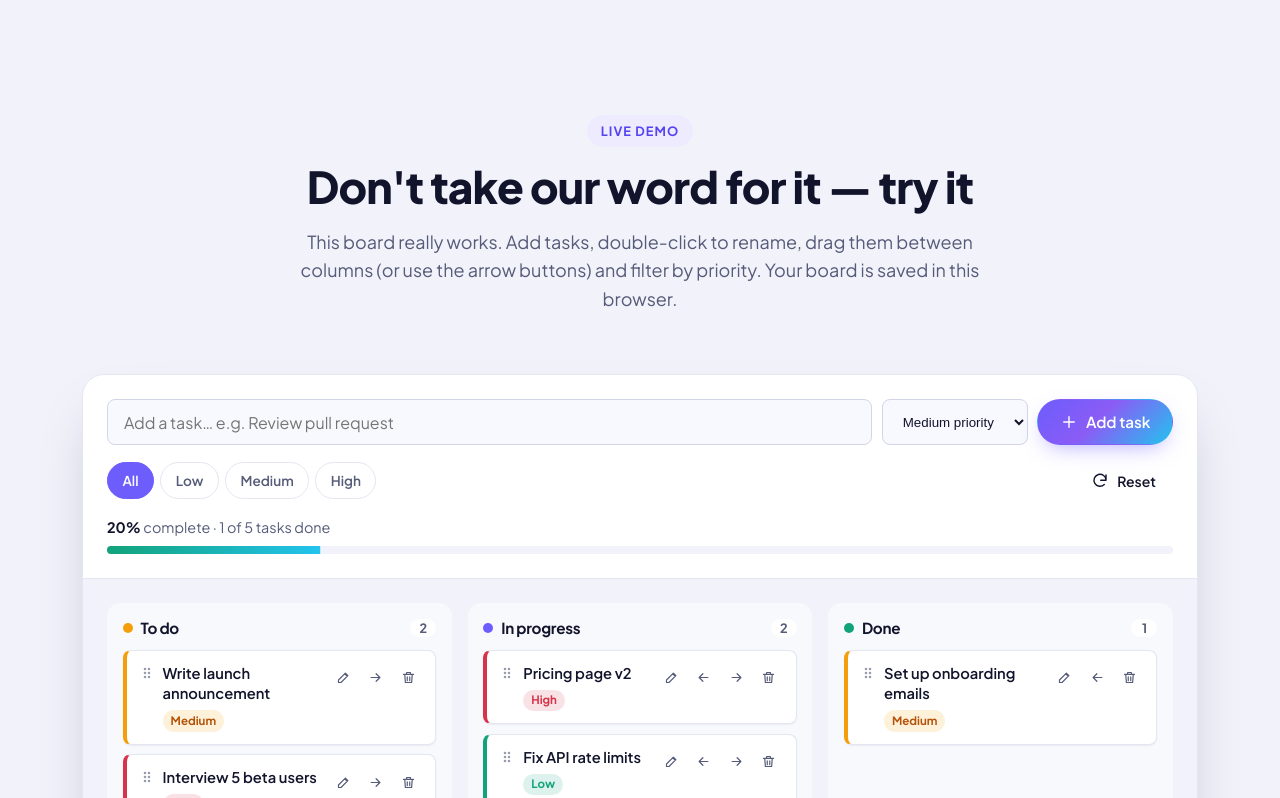
Test: BoardDemo › adds a task to To do and announces it
Type "Ship v2" into the field named "New task name".
click(490, 422); type("Ship v2")  # box [107,399,872,445]
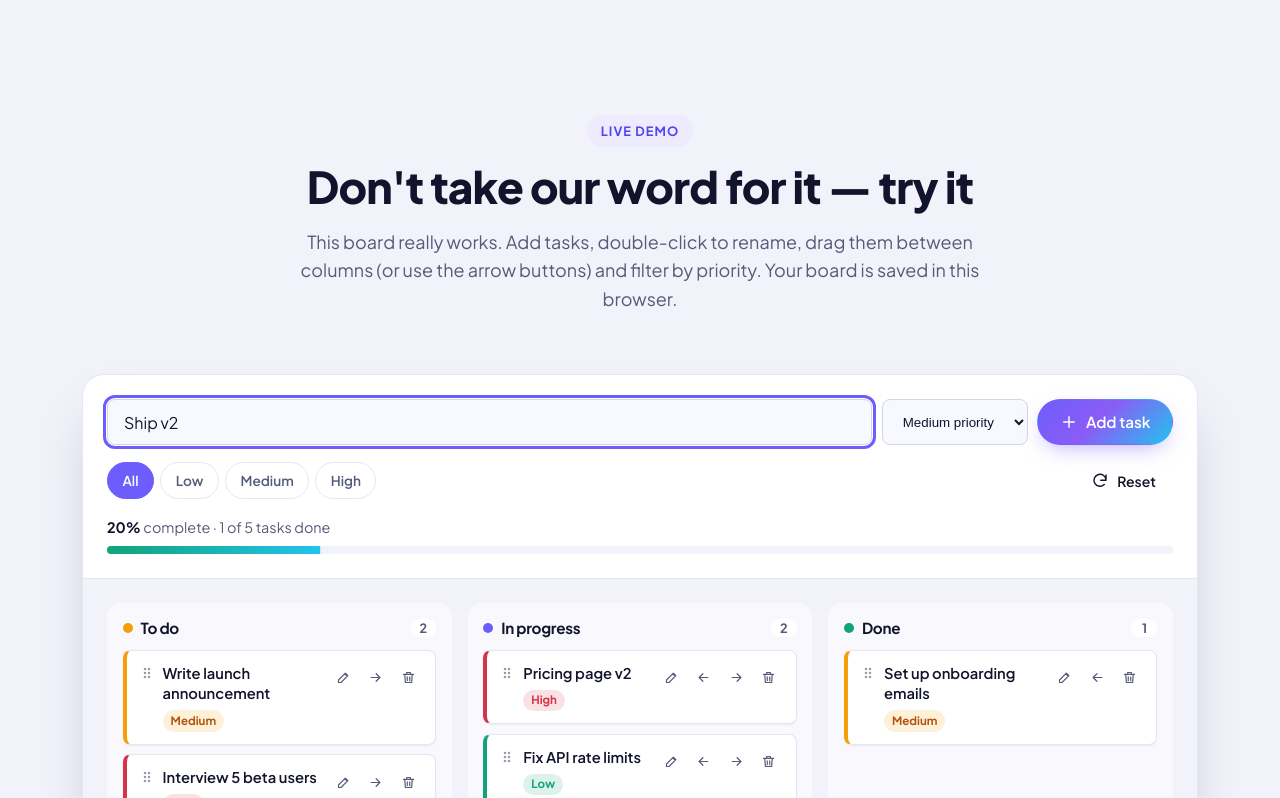
Select "High priority" in the dropdown named "Priority" at (955, 422), box [882,399,1028,445]
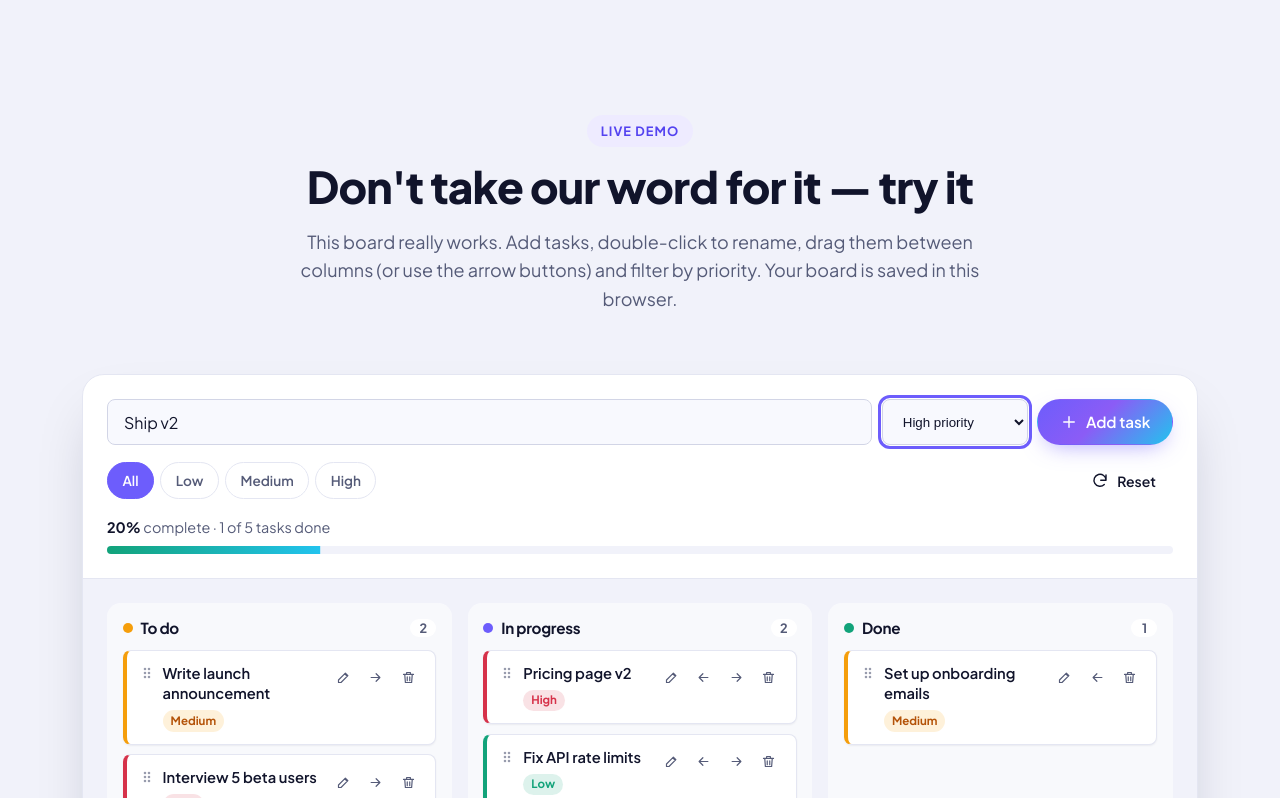
Click the button "Add task".
click(1105, 422)  # box [1037,399,1173,445]
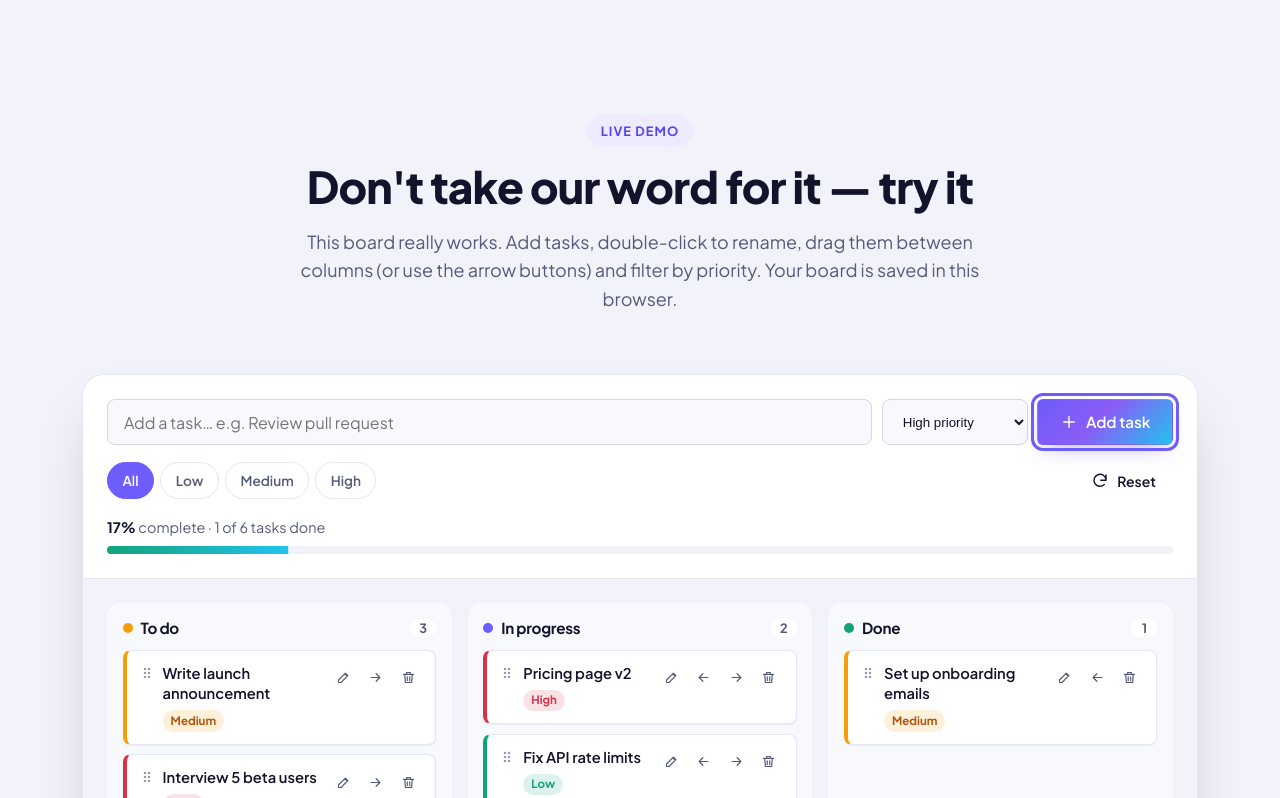
Expected: the field named "New task name" is empty, [107,399,872,445]
